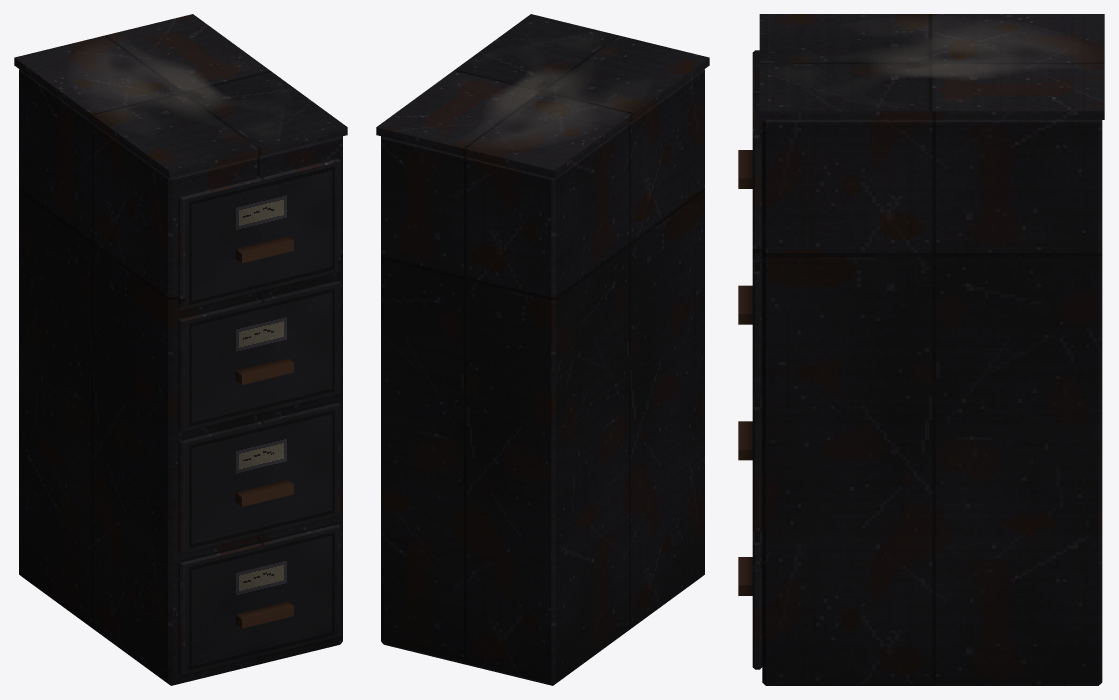
The model's file is file_cabinet.glb.
3 renders of one model, left to right at view 1: azimuth 30°, elevation 25°; view 2: azimuth 150°, elevation 25°; view 3: azimuth 270°, elevation 25°, orthographic. The views are drawn at different scales.
Visible parts, largest first — view 1: body, panels, decals; view 2: body, decals; view 3: body, decals.
Part boxes in pixels (box(x1,y1,x2,y2)): body: box(14, 14, 347, 685); panels: box(185, 162, 337, 674); decals: box(78, 47, 227, 118); body: box(376, 14, 709, 685); decals: box(478, 69, 627, 144); body: box(738, 14, 1104, 685); decals: box(868, 22, 1077, 78).
Size of what is drawn, in the model's own units: 0.48 by 1.33 by 0.765.
Materials: 5 (4 with a texture image).
